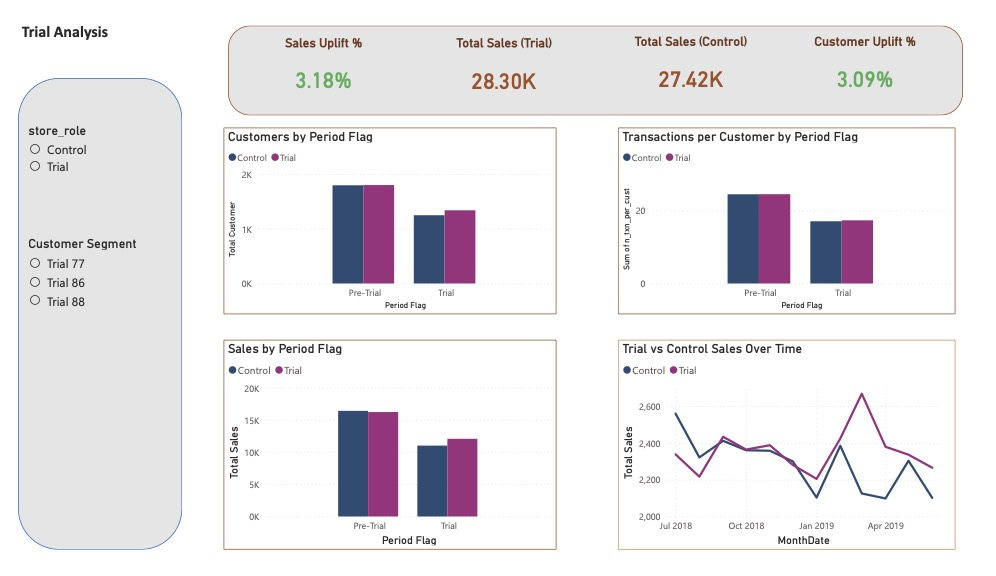

The page's visual inventory and layout, read from the dashboard file:
{"tool":"powerbi","page":{"name":"Trial Analysis","canvas":[1280,720],"ordinal":4},"visuals":[{"type":"textbox","box":[11.2,0,243.8,53.8],"z":0},{"type":"textbox","box":[20,94.3,1250,48.6],"z":1000},{"type":"textbox","box":[644.3,577.1,627.1,142.9],"z":4000},{"type":"textbox","box":[937.5,0,318.8,53.8],"z":5000},{"type":"advancedSlicerVisual","title":"Period","fields":{"Values":["PowerBI_Quantium.period_flag"]},"box":[20,142.9,315.7,82.9],"z":6000},{"type":"textbox","box":[43.9,683.4,399.3,37],"z":7000},{"type":"pivotTable","title":"Monthly significance, trial period Sale","fields":{"Columns":["PowerBI_Quantium.MonthDate.Variation.Date Hierarchy.Month","PowerBI_Quantium.MonthDate.Variation.Date Hierarchy.Day"],"Rows":["PowerBI_Quantium.trial_group"],"Values":["PowerBI_Quantium.Is Significant"]},"box":[862.9,322.9,408.6,214.3],"z":8000},{"type":"barChart","title":" Sales uplift % vs control store","fields":{"Y":["PowerBI_Quantium.Sales Uplift %"],"Category":["PowerBI_Quantium.trial_group"],"Series":["PowerBI_Quantium.period_flag"]},"box":[20,322.9,422.9,214.3],"z":9000},{"type":"lineChart","title":"Store 86 vs its Control over time","fields":{"Category":["PowerBI_Quantium.MonthDate.Variation.Date Hierarchy.Year"],"Y":["Sum(PowerBI_Quantium.tot_sales)"],"Series":["PowerBI_Quantium.store_role"]},"box":[20,568.6,587.1,151.4],"z":13000},{"type":"card","title":"Sales Uplift % Store 77","fields":{"Values":["PowerBI_Quantium.Sales Uplift 77"]},"box":[20,225.7,215.7,70],"z":14000},{"type":"card","title":"Sales Uplift % Store 86","fields":{"Values":["PowerBI_Quantium.Sales Uplift 86"]},"box":[237.1,225.7,207.1,71.4],"z":15000},{"type":"card","title":"Sales Uplift % Store 88","fields":{"Values":["PowerBI_Quantium.Sales Uplift 88"]},"box":[444.3,225.7,200,71.4],"z":16000},{"type":"clusteredColumnChart","title":"Customers by Period","fields":{"Category":["PowerBI_Quantium.period_flag"],"Series":["PowerBI_Quantium.store_role"],"Y":["Sum(PowerBI_Quantium.n_customers)"]},"box":[442.9,322.9,420,214.3],"z":17000},{"type":"textbox","box":[544.8,46.7,234.6,46.7],"z":19000},{"type":"textbox","box":[263.5,46.7,281.3,46.7],"z":20000},{"type":"textbox","box":[20.6,46.7,242.9,46.7],"z":21000},{"type":"textbox","box":[779.4,46.7,220.9,46.7],"z":22000},{"type":"textbox","box":[1000.3,46.7,270.3,46.7],"z":23000},{"type":"advancedSlicerVisual","title":"Store Role","fields":{"Values":["PowerBI_Quantium.store_role"]},"box":[850.8,142.7,419.9,82.3],"z":24000},{"type":"advancedSlicerVisual","title":"Trial Store Number","fields":{"Values":["PowerBI_Quantium.trial_group"]},"box":[336.2,142.7,514.6,82.3],"z":25000},{"type":"card","title":"Customers Uplift % S77","fields":{"Values":["PowerBI_Quantium.Customer Uplift %"]},"box":[644.3,227.1,218.6,68.6],"z":27000},{"type":"card","title":"Customer Uplift % S 86","fields":{"Values":["PowerBI_Quantium.Customer Uplift %"]},"box":[862.9,227.1,207.1,68.6],"z":28000},{"type":"card","title":"customer Uplift % S 88","fields":{"Values":["PowerBI_Quantium.Customer Uplift %"]},"box":[1070,227.1,200,70],"z":29000}]}

Visuals, with their boxes in screenshot pixels (x1, y1, x2, y2), scaled from the page's 1280x720 canvas onto the 996x576 screenshot:
textbox: bbox(9, 0, 198, 43)
textbox: bbox(16, 75, 988, 114)
textbox: bbox(501, 462, 989, 575)
textbox: bbox(729, 0, 978, 43)
"Period" advancedSlicerVisual: bbox(16, 114, 261, 181)
textbox: bbox(34, 547, 345, 575)
"Monthly significance, trial period Sale" pivotTable: bbox(671, 258, 989, 430)
" Sales uplift % vs control store" barChart: bbox(16, 258, 345, 430)
"Store 86 vs its Control over time" lineChart: bbox(16, 455, 472, 575)
"Sales Uplift % Store 77" card: bbox(16, 181, 183, 237)
"Sales Uplift % Store 86" card: bbox(184, 181, 346, 238)
"Sales Uplift % Store 88" card: bbox(346, 181, 501, 238)
"Customers by Period" clusteredColumnChart: bbox(345, 258, 671, 430)
textbox: bbox(424, 37, 606, 75)
textbox: bbox(205, 37, 424, 75)
textbox: bbox(16, 37, 205, 75)
textbox: bbox(606, 37, 778, 75)
textbox: bbox(778, 37, 989, 75)
"Store Role" advancedSlicerVisual: bbox(662, 114, 989, 180)
"Trial Store Number" advancedSlicerVisual: bbox(262, 114, 662, 180)
"Customers Uplift % S77" card: bbox(501, 182, 671, 237)
"Customer Uplift % S 86" card: bbox(671, 182, 833, 237)
"customer Uplift % S 88" card: bbox(833, 182, 988, 238)
